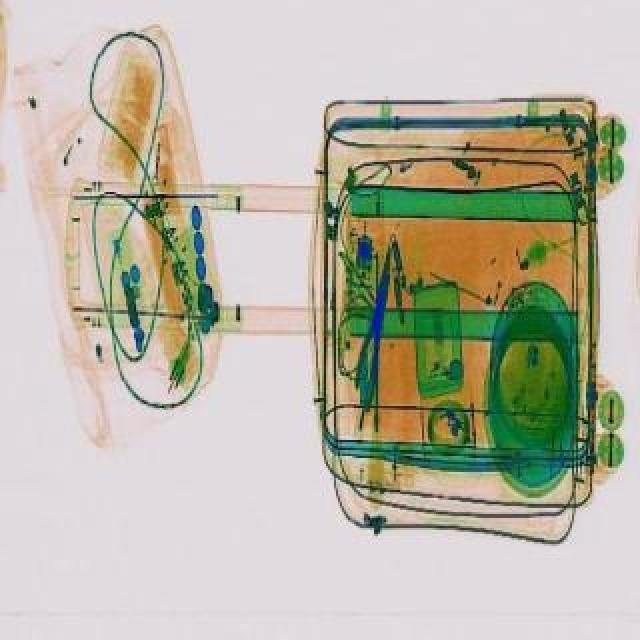wrench: (346, 250, 402, 416)
